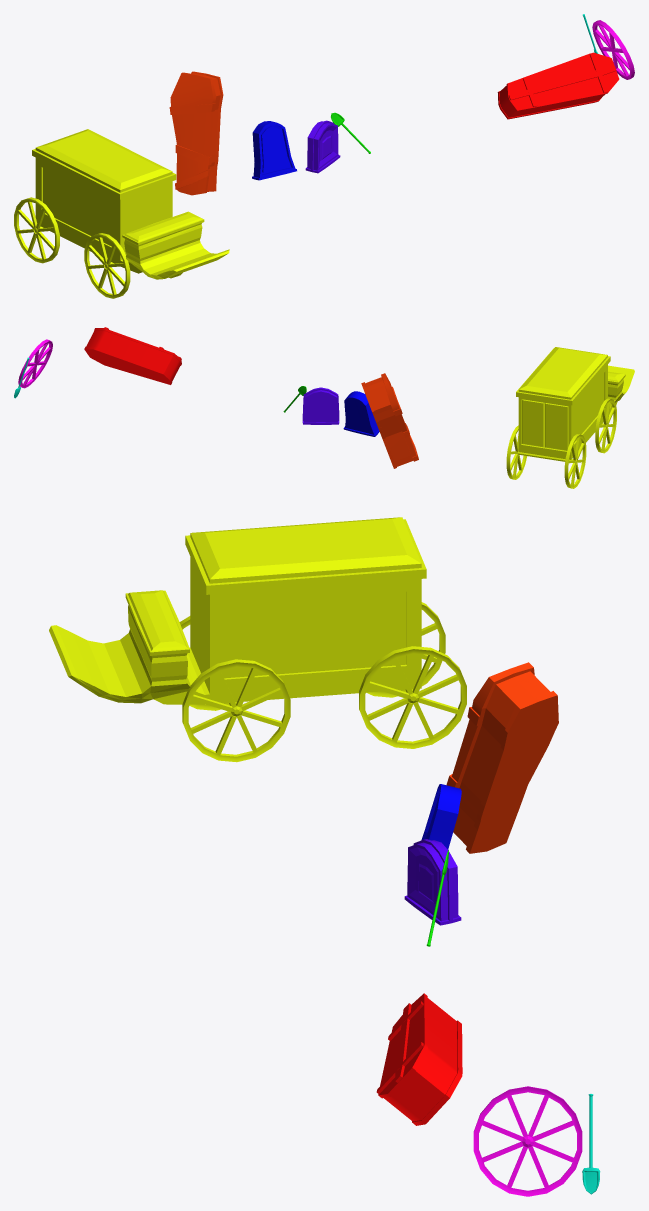
File: Surrounding_Assets_Unwraped_FBX.FBX
3 renders of one model, top to bottom at view 1: azimuth 30°, elevation 25°; view 2: azimuth 150°, elevation 25°; view 3: azimuth 270°, elevation 25°, orthographic. The views are drawn at different scales.
Visible parts, largest first — view 1: Death_Coach, Coffin_2, Coffin_1, Tombstone_1, Tombstone_2, Wheel_1; view 2: Death_Coach, Coffin_1, Coffin_2, Tombstone_2, Tombstone_1, Wheel_1; view 3: Death_Coach, Coffin_2, Coffin_1, Wheel_1, Tombstone_2, Tombstone_1.
Part boxes in pixels (x1,y1,x2,y2): Death_Coach: [14, 129, 229, 298]; Coffin_2: [169, 71, 223, 195]; Coffin_1: [497, 52, 619, 119]; Tombstone_1: [252, 121, 296, 180]; Tombstone_2: [305, 120, 340, 173]; Wheel_1: [592, 20, 634, 79]; Death_Coach: [506, 347, 634, 488]; Coffin_1: [84, 327, 181, 384]; Coffin_2: [361, 373, 418, 468]; Tombstone_2: [302, 387, 339, 424]; Tombstone_1: [343, 391, 379, 436]; Wheel_1: [18, 339, 52, 388]; Death_Coach: [49, 517, 466, 762]; Coffin_2: [446, 662, 558, 853]; Coffin_1: [376, 993, 462, 1125]; Wheel_1: [473, 1086, 582, 1196]; Tombstone_2: [404, 839, 461, 925]; Tombstone_1: [421, 784, 461, 849].
Size of the model in its own units: 1072 by 182 by 492.
